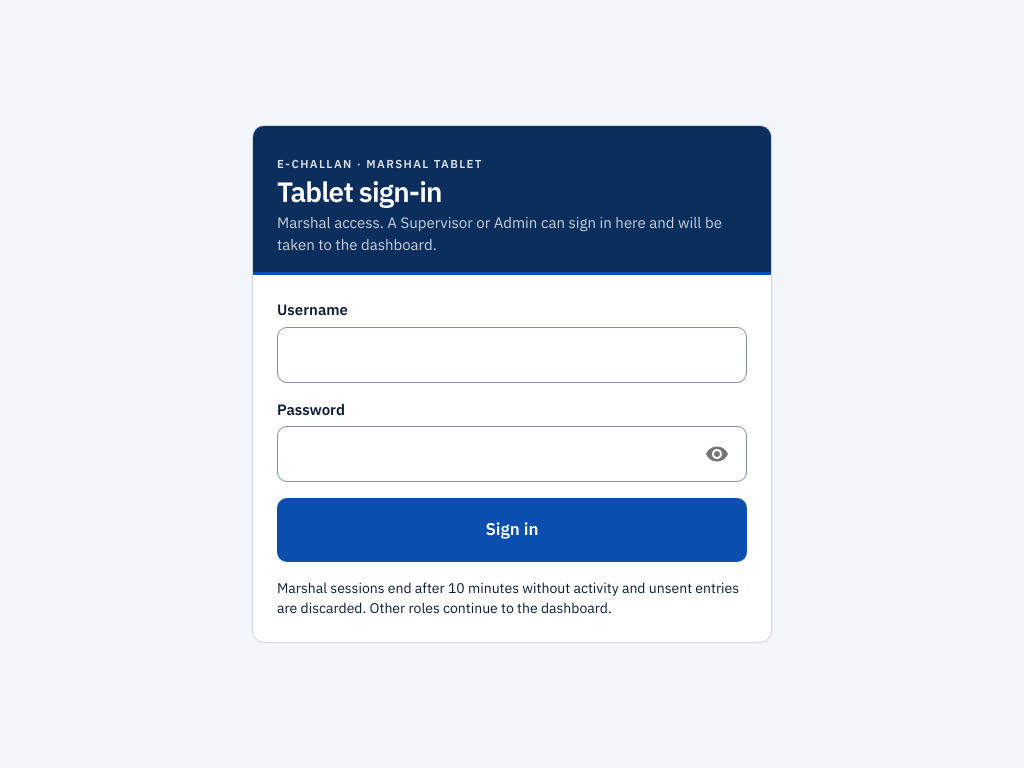
it: pre-issuance entry flow (ENT-01–ENT-06, UI-01) › renders the statically labelled full-width entry form
The image size is (1024, 768).
Type "EMP-3106" into the field labelled "Username" at coordinates (512, 354), box [277, 326, 747, 382]
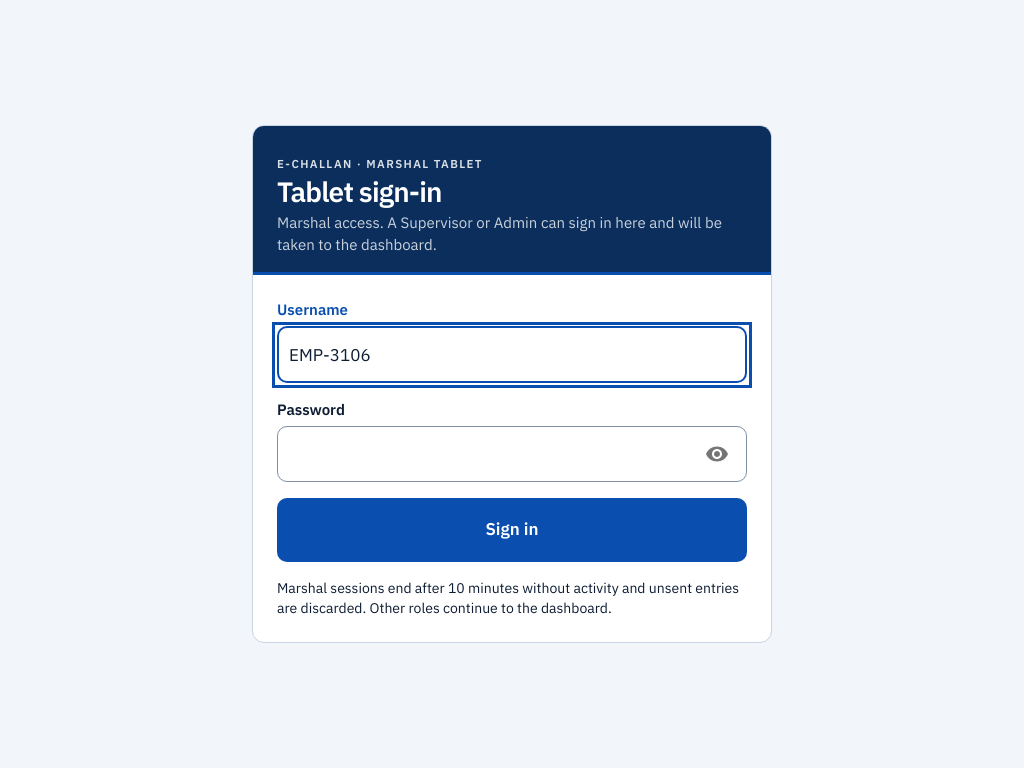
Type "planner-demo-marshal-secret" into the password field labelled "Password" at coordinates (479, 454), box [277, 426, 681, 482]
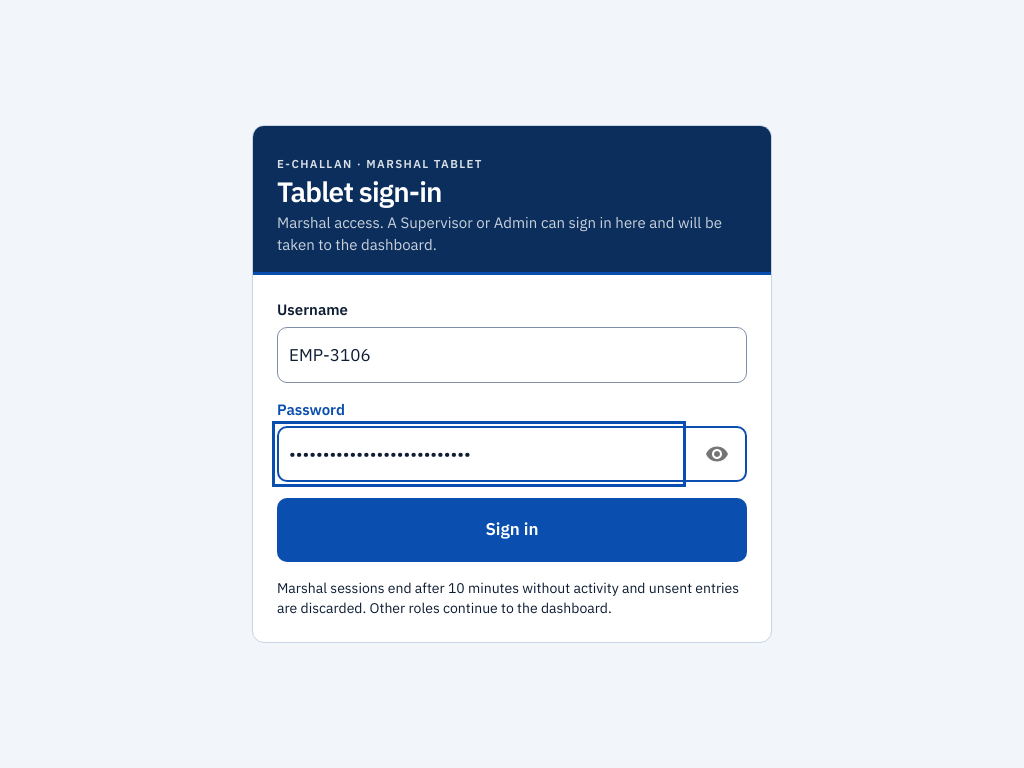
Click the button "Sign in" at coordinates (512, 530), box [277, 498, 747, 562]
(page scrolled)
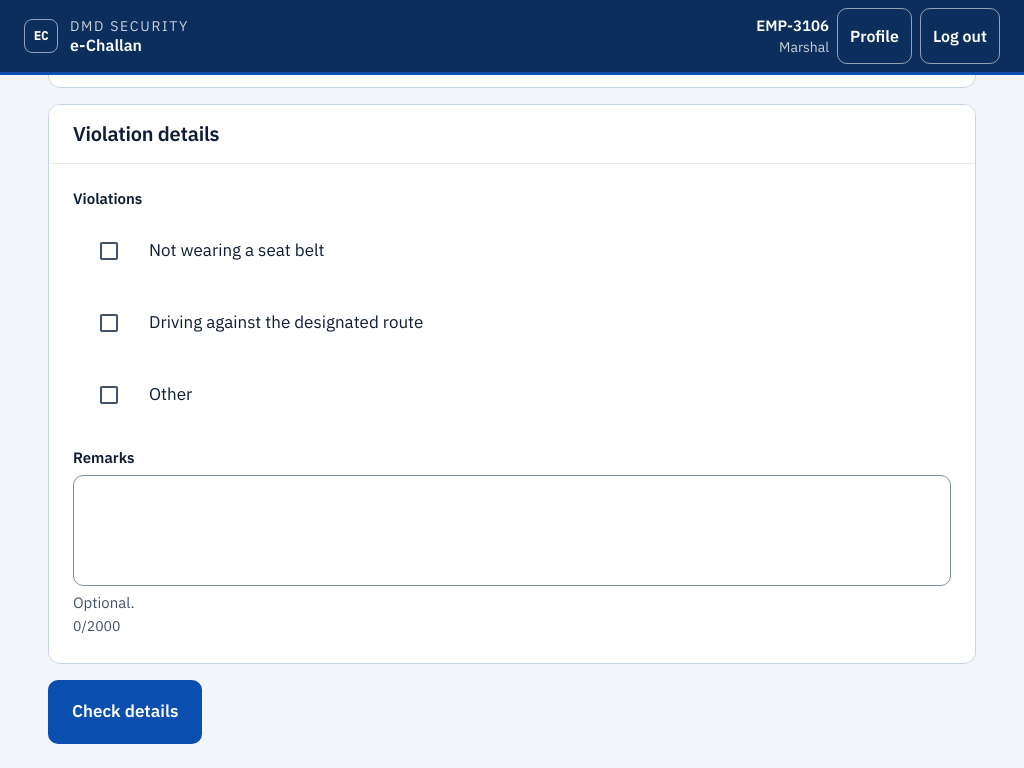
Now the dropdown named "Vehicle type" is shown, box [73, 7, 951, 63]
Now the element "Violations" is shown, box [73, 189, 423, 407]
Now the button "Check details" is shown, box [48, 680, 202, 744]
